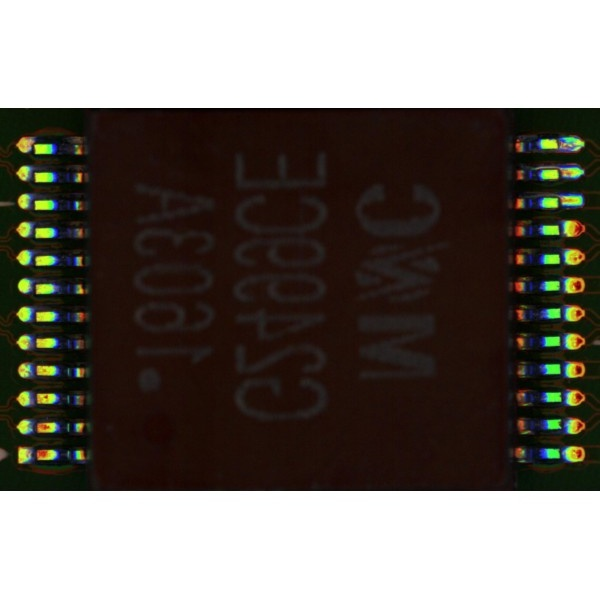Bad_podu: (553, 169, 572, 176), (550, 198, 572, 204)
Bad_qiaojiao: (530, 166, 559, 169)
